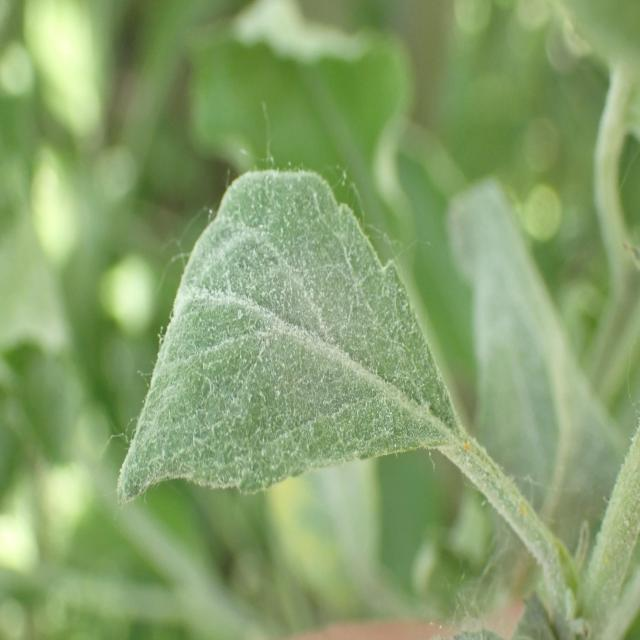Powdery_mildew: (108, 156, 463, 525)
